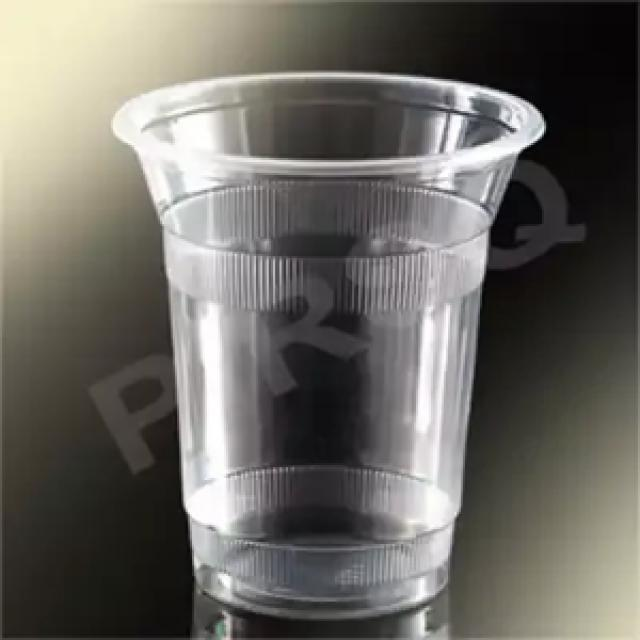plastic cup: (107, 64, 552, 629)
